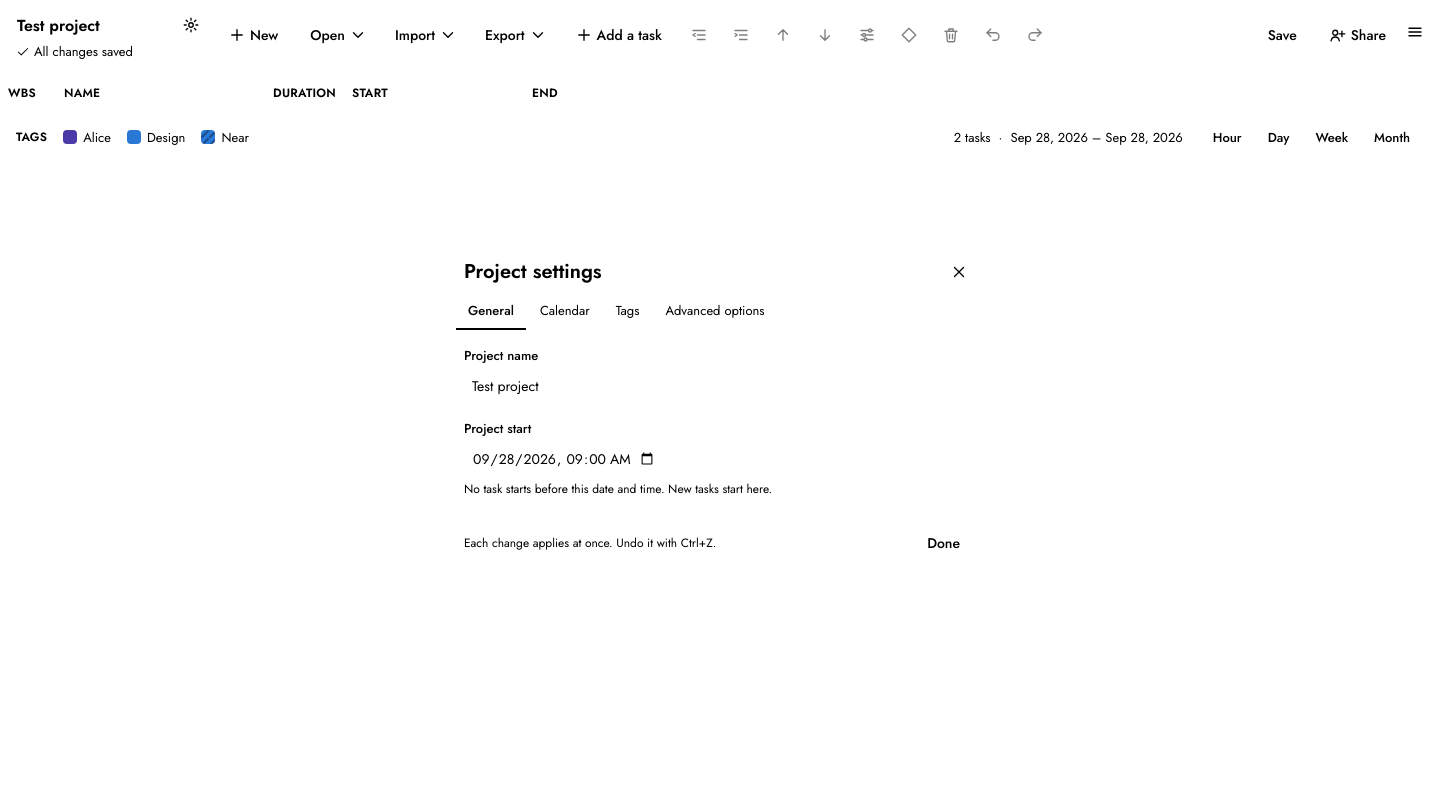
it: the Tags tab › explains below the list a refusal about a tag that is gone, and keeps undo away from the question
The image size is (1440, 810).
Click the tab "Tags" at (628, 311), box [604,292,651,330]
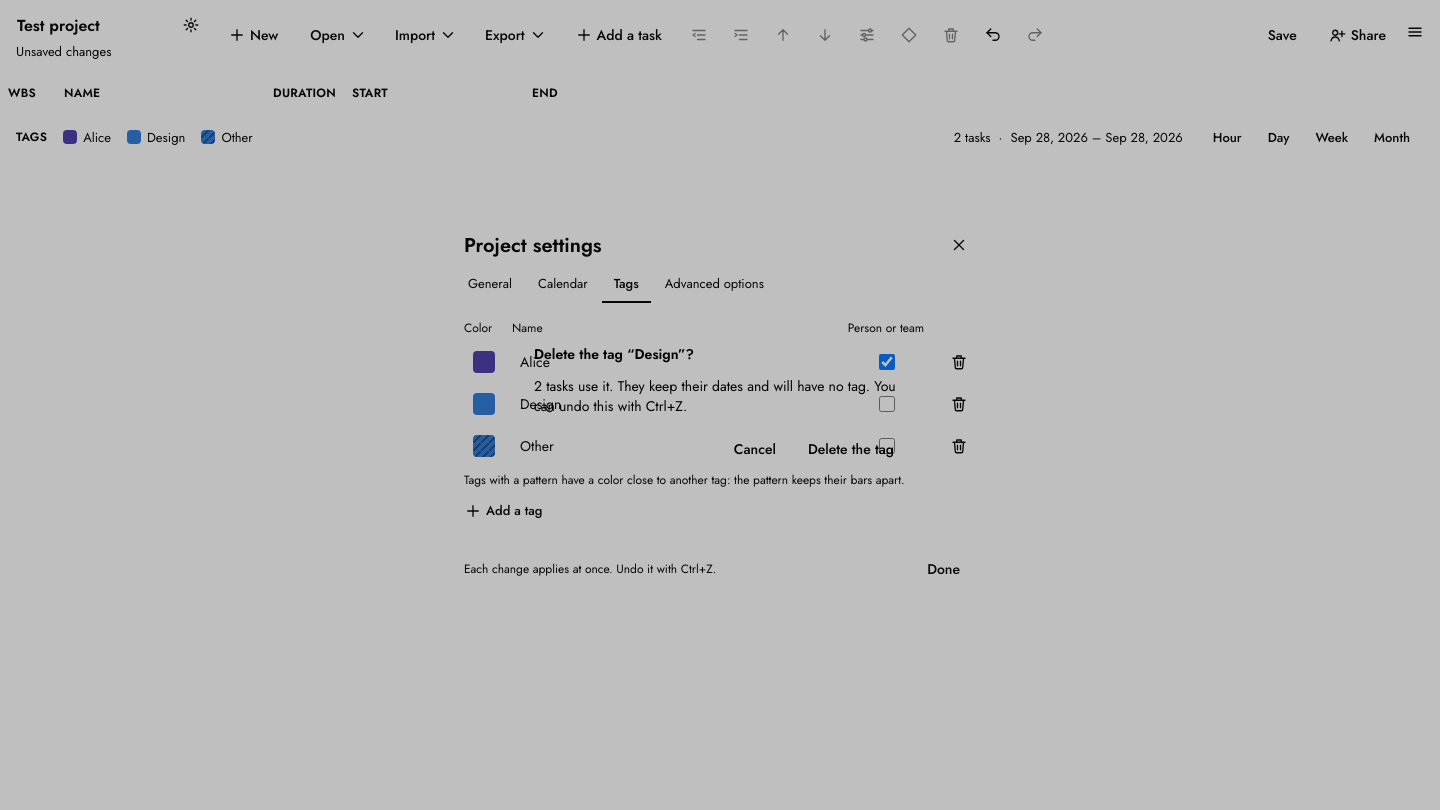
Press z in the dialog with class "confirm", box [510,320,930,490]
Press Y in the dialog with class "confirm", box [510,320,930,490]
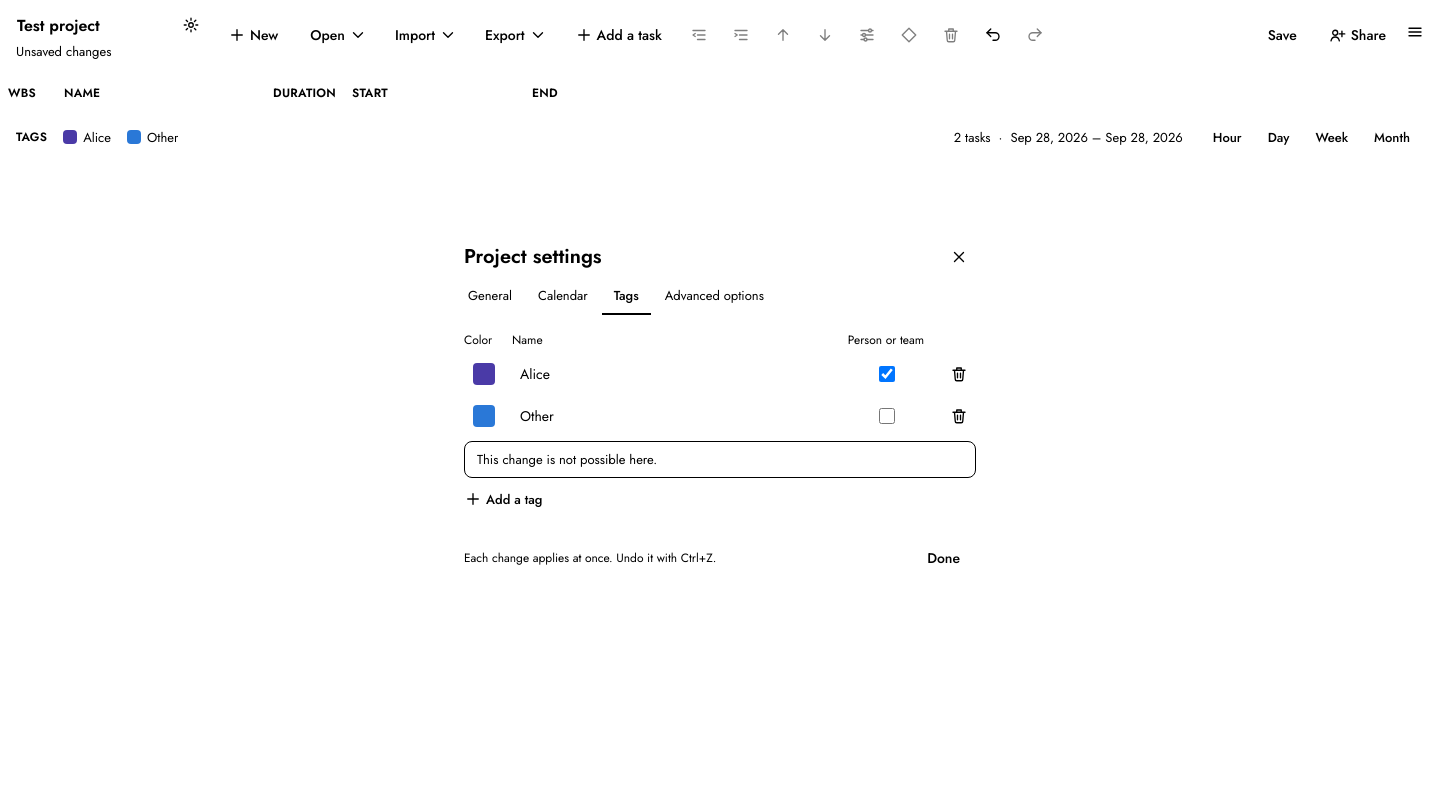
Now the message "This change is not possible here." is shown, box [464,440,976,478]
